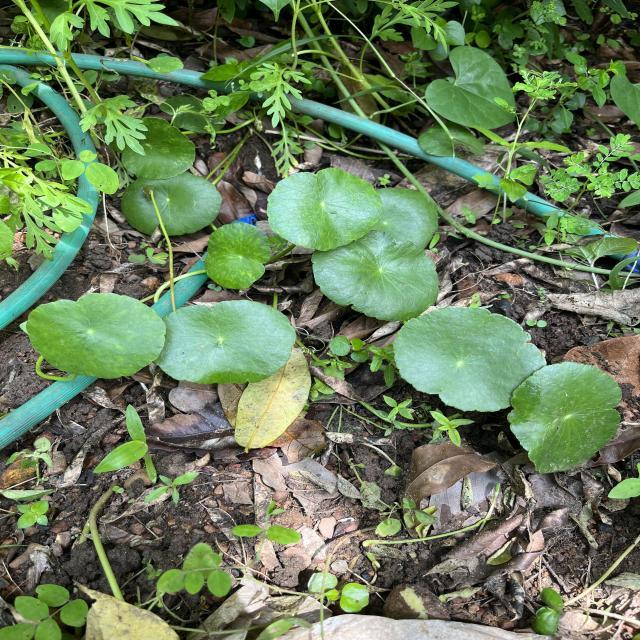Bacopa monnieri: (391, 305, 549, 413), (506, 361, 623, 475), (23, 292, 168, 381), (309, 226, 442, 322), (156, 298, 298, 386), (265, 166, 383, 252), (119, 170, 225, 237), (120, 116, 198, 182), (204, 222, 272, 290)
